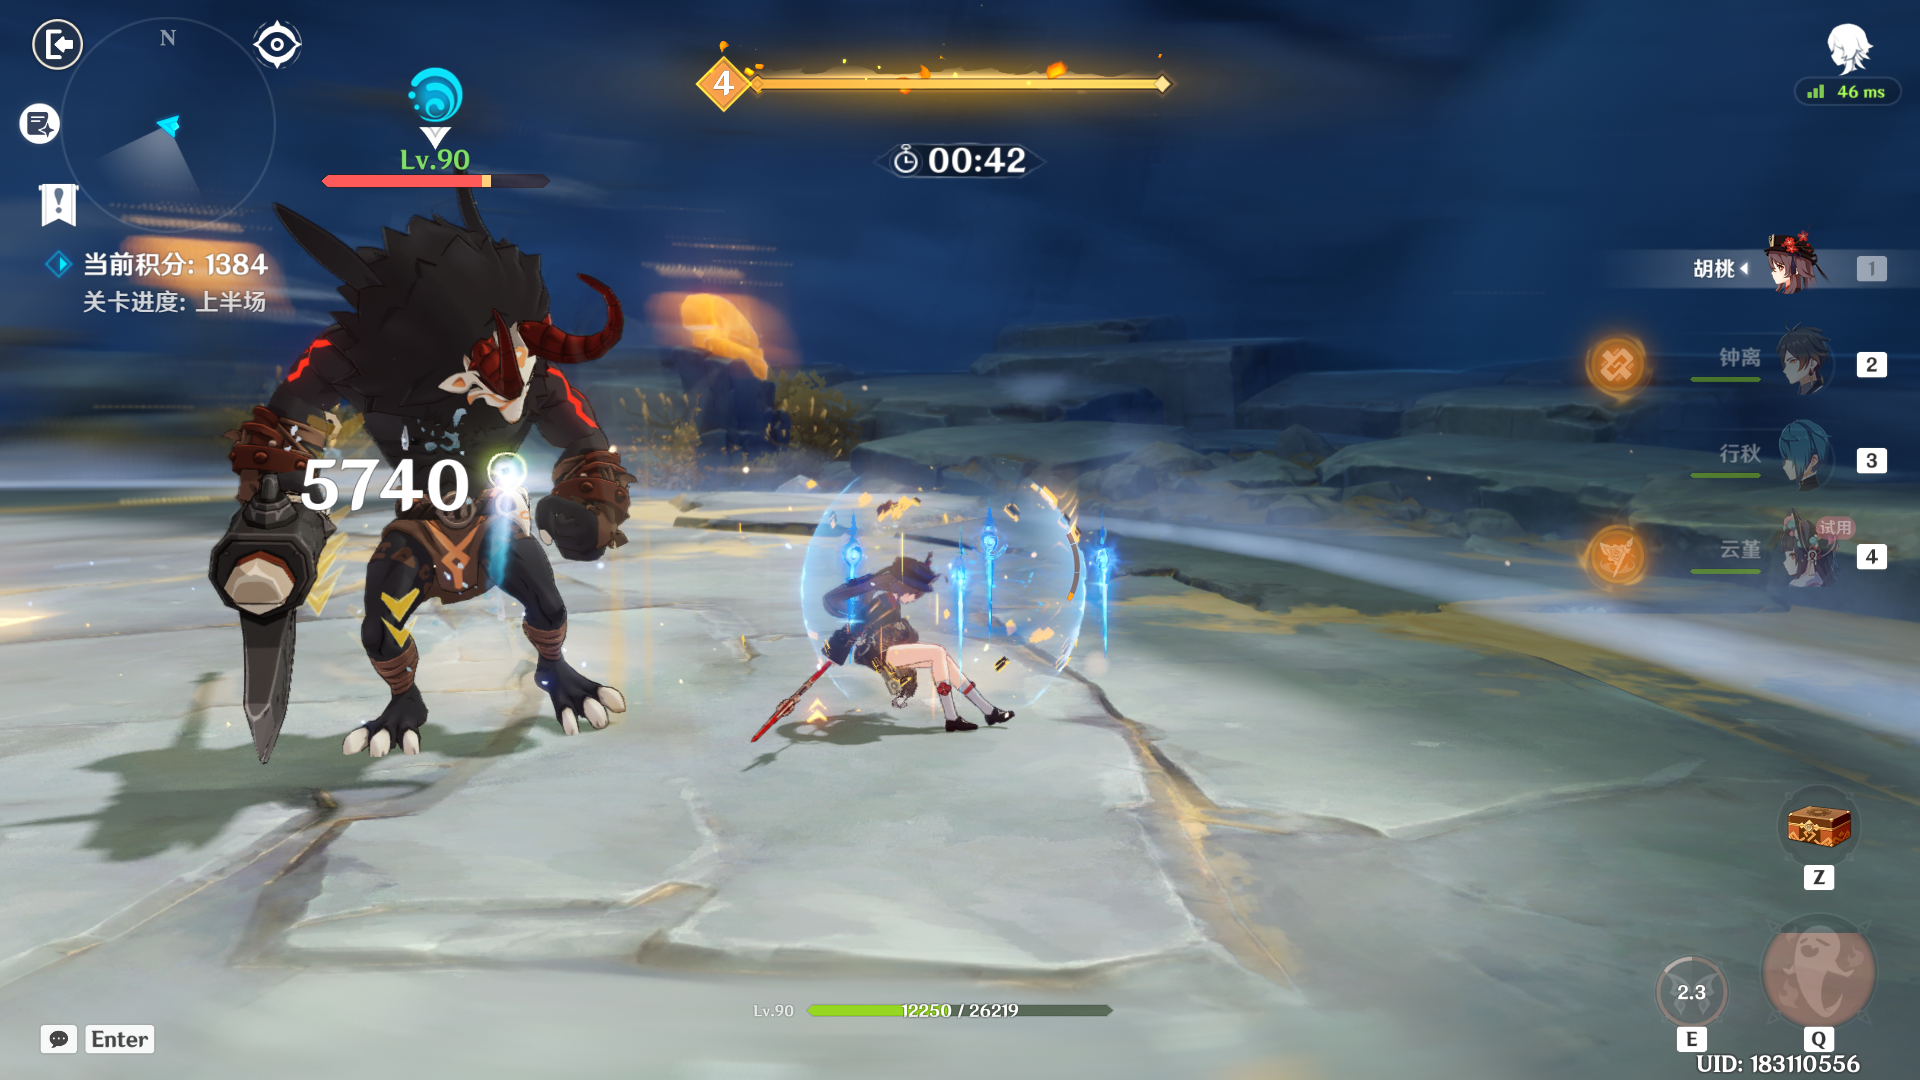bighili: (177, 189, 684, 827)
character: (745, 509, 1019, 781)
